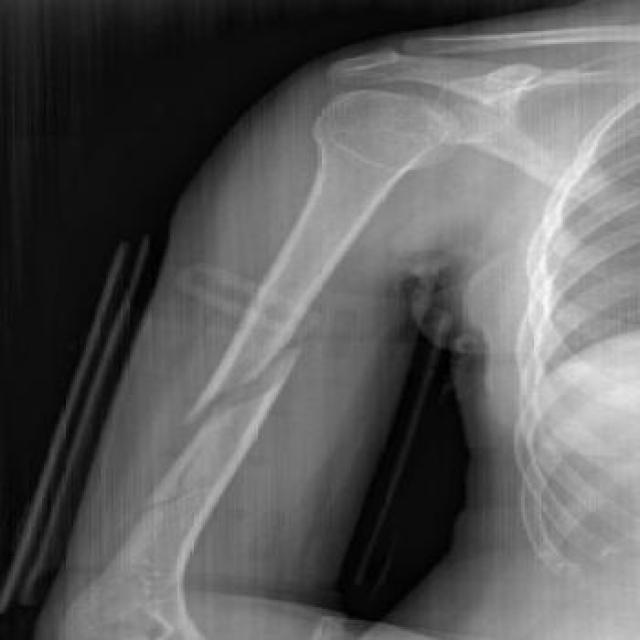fracture: (169, 338, 314, 432), (139, 444, 232, 512)
